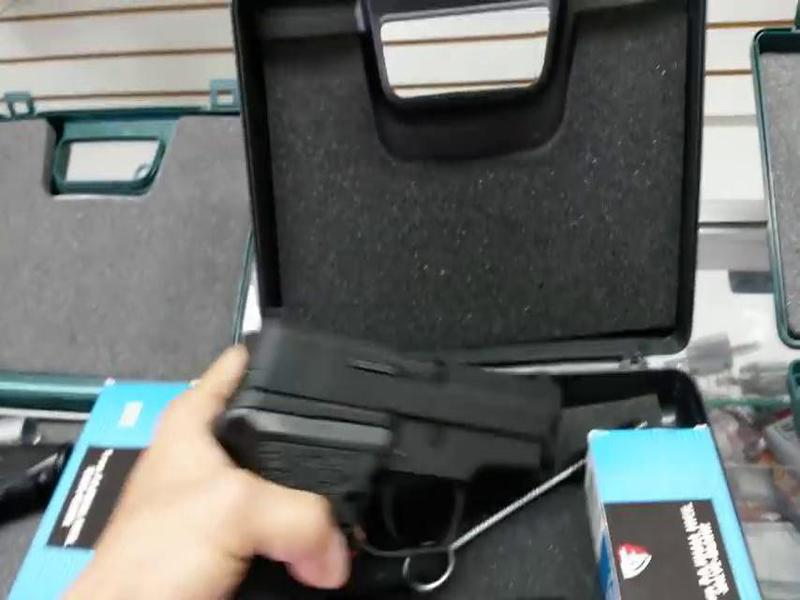Pistola: (202, 290, 576, 600)
